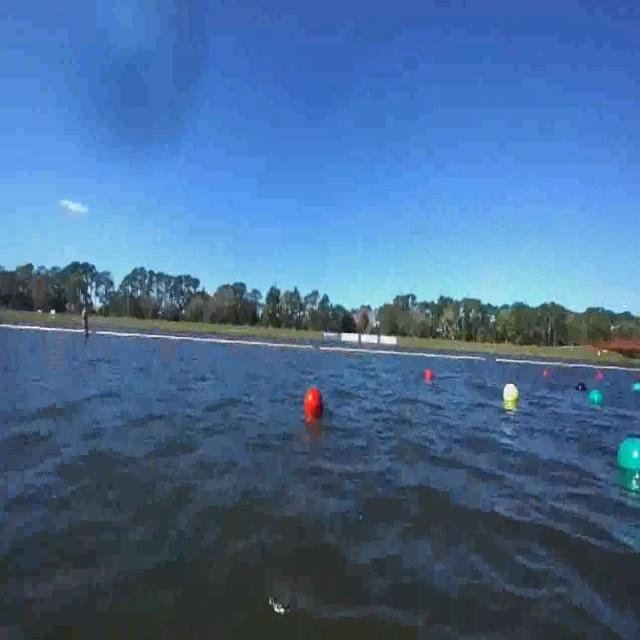black-buoy: (575, 382, 585, 394)
green-buoy: (616, 440, 640, 476), (586, 387, 600, 405), (633, 383, 640, 395)
red-buoy: (303, 390, 322, 423), (425, 368, 434, 380), (594, 370, 601, 380)
yellow-buoy: (503, 383, 518, 402)
